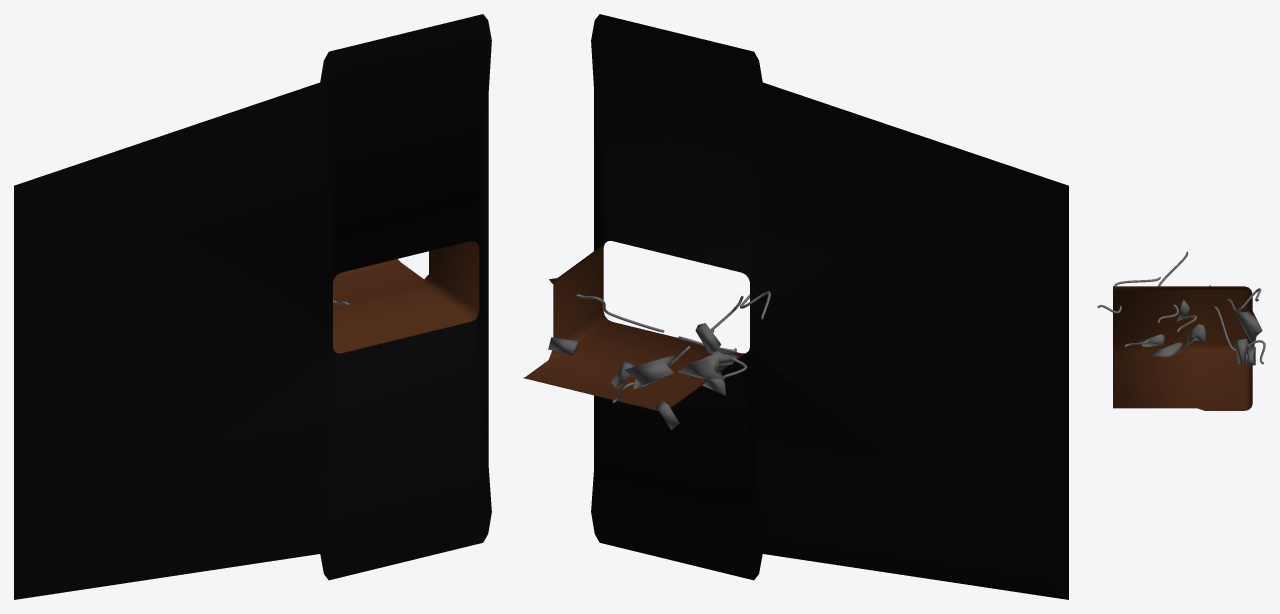
File: hideout.glb
The picture shows the model from 3 angles, left to right: view 1: azimuth 30°, elevation 25°; view 2: azimuth 150°, elevation 25°; view 3: azimuth 270°, elevation 25°; orthographic projection. The views are drawn at different scales.
Visible parts, largest first — view 1: Plane; view 2: Plane, BezierCurve.001; view 3: Plane, BezierCurve.001.
Boxes of the visible parts, left/top/right/bottom form: Plane: left=14, top=14, right=491, bottom=599; Plane: left=523, top=14, right=1068, bottom=599; BezierCurve.001: left=576, top=291, right=770, bottom=402; Plane: left=1113, top=286, right=1262, bottom=410; BezierCurve.001: left=1097, top=251, right=1265, bottom=364.
Size of the model in its own units: 48.81 by 51.62 by 17.83.
